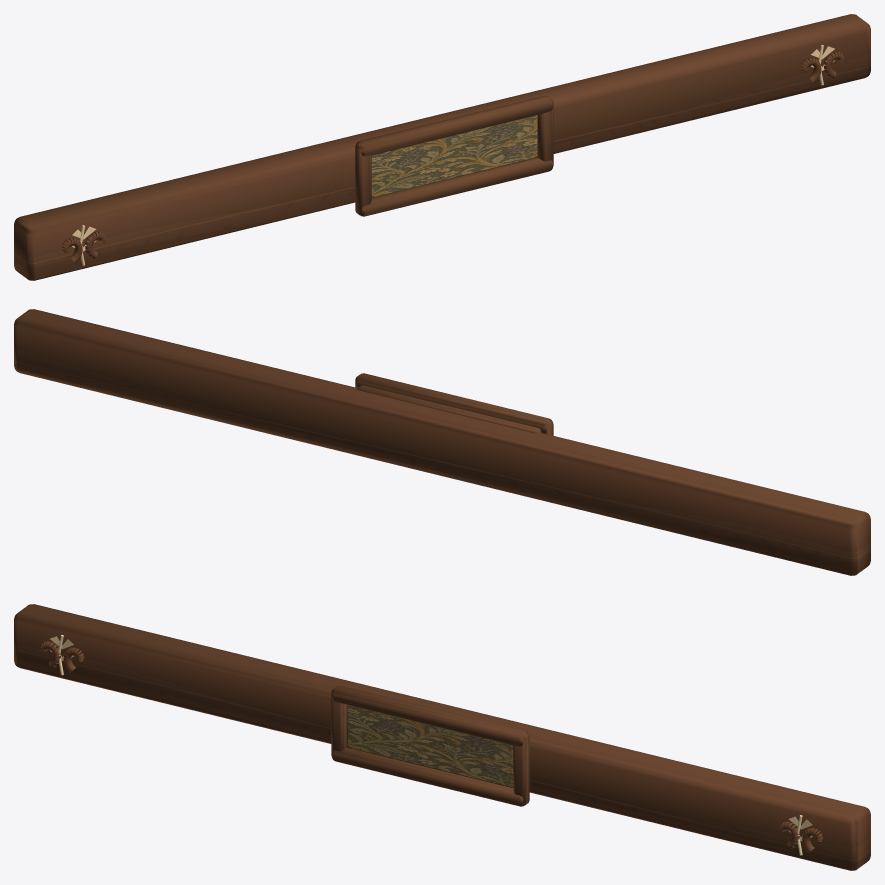
The model's file is CM_IL04_Header.fbx.
The picture shows the model from 3 angles, top to bottom: view 1: azimuth 30°, elevation 25°; view 2: azimuth 150°, elevation 25°; view 3: azimuth 330°, elevation 25°; orthographic projection.
Parts seen in each view (by area): view 1: CM_IL04_Header; view 2: CM_IL04_Header; view 3: CM_IL04_Header.
Part boxes in pixels (bbox=[...]): CM_IL04_Header: bbox=[14, 14, 870, 280]; CM_IL04_Header: bbox=[14, 309, 870, 575]; CM_IL04_Header: bbox=[14, 604, 870, 870].
Bounding box in the file's own units: 1.92 × 0.159 × 0.098.
